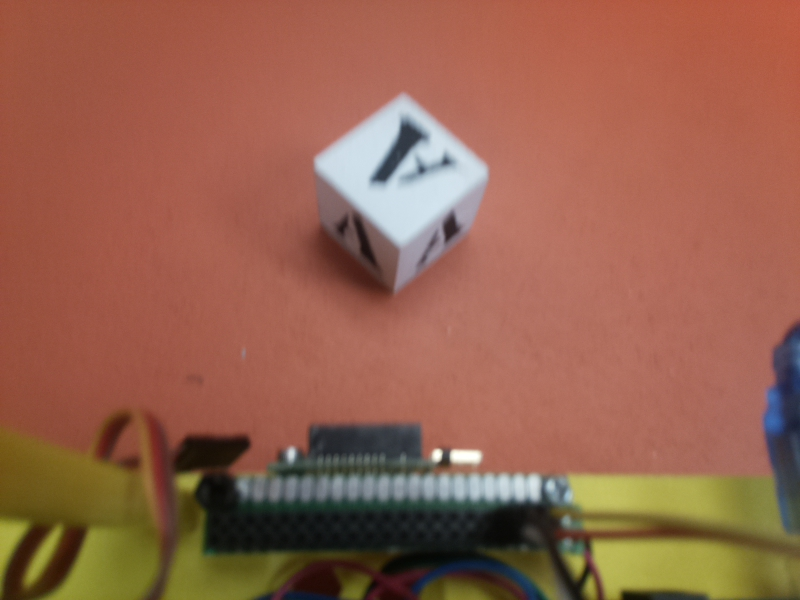blockA: (311, 92, 488, 300)
